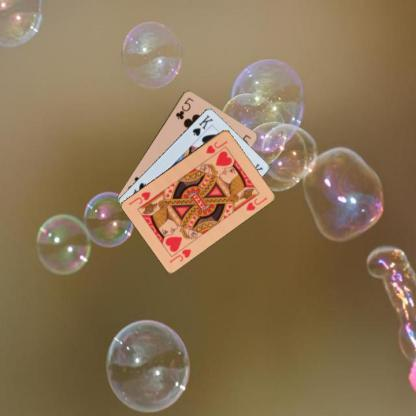5c: (172, 95, 194, 120)
Jh: (167, 240, 192, 264), (204, 137, 228, 155)
Ks: (190, 112, 214, 137)
